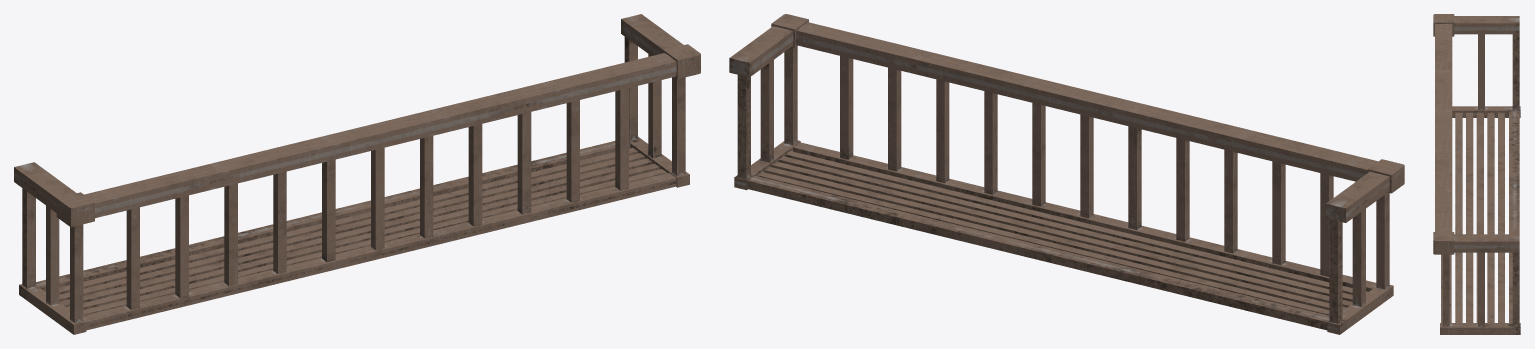
The model's file is WindowRailing_A.fbx.
3 renders of one model, left to right at view 1: azimuth 30°, elevation 25°; view 2: azimuth 150°, elevation 25°; view 3: azimuth 270°, elevation 25°, orthographic. The views are drawn at different scales.
Visible parts, largest first — view 1: WindowRailing_A; view 2: WindowRailing_A; view 3: WindowRailing_A.
Part boxes in pixels (x1=…): WindowRailing_A: x1=14, y1=14, x2=700, y2=334; WindowRailing_A: x1=729, y1=14, x2=1404, y2=334; WindowRailing_A: x1=1433, y1=14, x2=1520, y2=334.
Bounding box in the file's own units: 186 × 36.96 × 30.19.
Materials: 1 (1 with a texture image).
